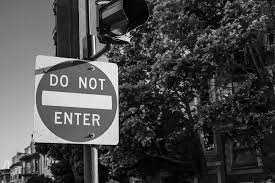doNotEnter: (32, 52, 120, 145)
